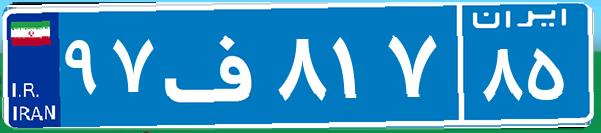1: (330, 28, 385, 110)
5: (525, 38, 570, 115)
7: (385, 28, 445, 110), (110, 28, 158, 105)
8: (273, 28, 330, 110), (475, 38, 525, 113)
9: (57, 26, 110, 107)
ف: (158, 15, 273, 115)
